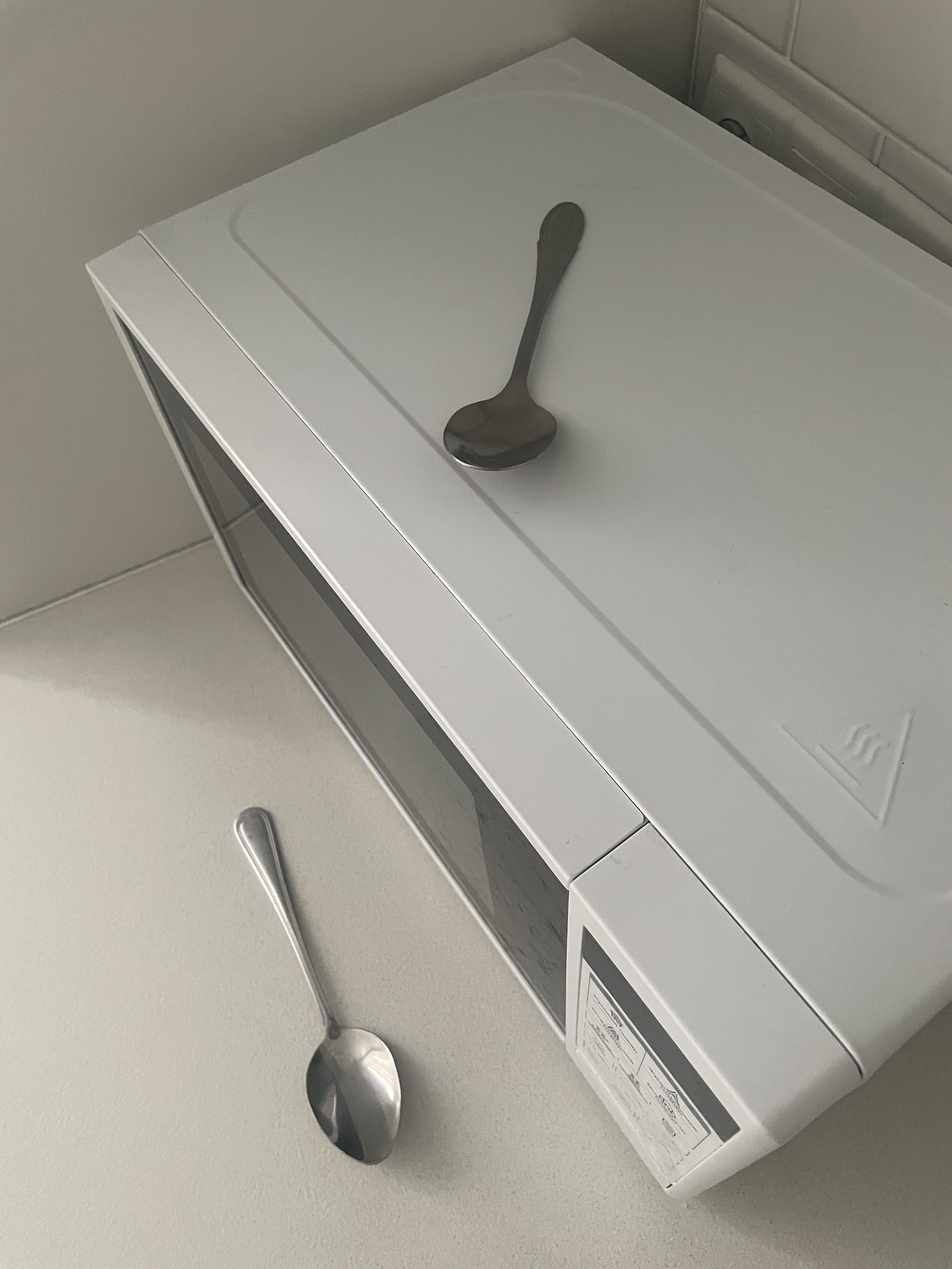spoon: (233, 807, 403, 1167), (446, 195, 586, 472)
